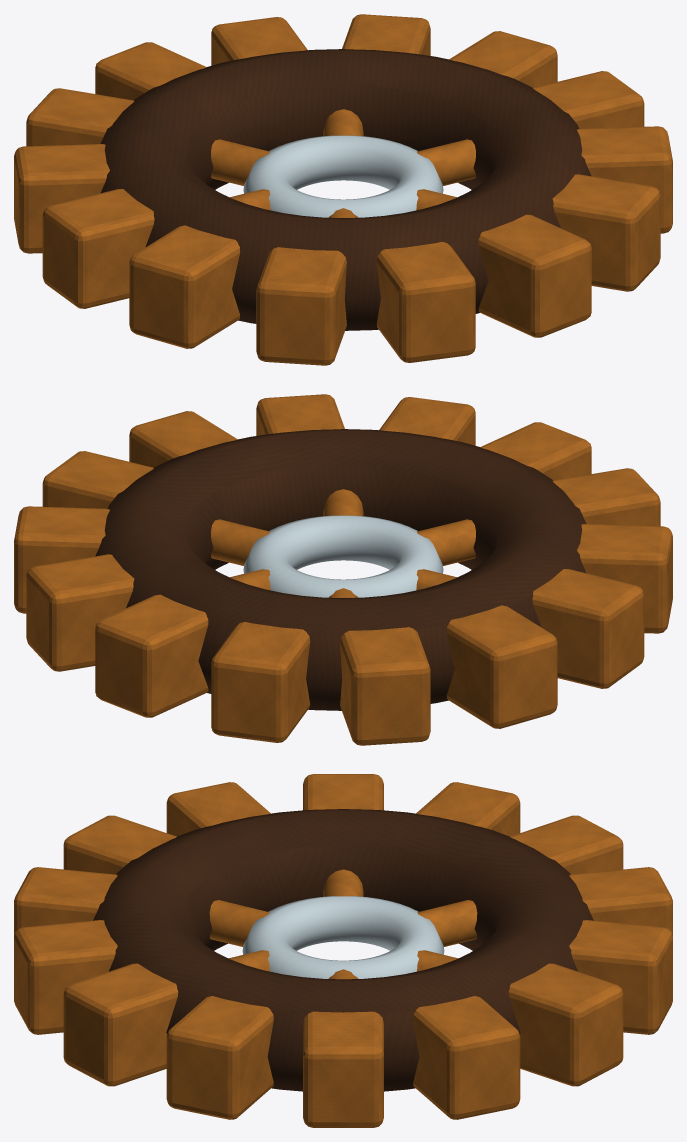
The model's file is relic_03.glb.
The picture shows the model from 3 angles, top to bottom: view 1: azimuth 30°, elevation 25°; view 2: azimuth 150°, elevation 25°; view 3: azimuth 270°, elevation 25°; orthographic projection.
Parts seen in each view (by area): view 1: Brushed_gold, Patinated_bronze, Antique_silver; view 2: Brushed_gold, Patinated_bronze, Antique_silver; view 3: Brushed_gold, Patinated_bronze, Antique_silver.
Boxes of the visible parts, x1,y1,x2,y2 form: Brushed_gold: [14, 14, 672, 365]; Patinated_bronze: [100, 49, 591, 330]; Antique_silver: [243, 135, 443, 217]; Brushed_gold: [14, 394, 672, 745]; Patinated_bronze: [95, 429, 586, 710]; Antique_silver: [243, 515, 443, 597]; Brushed_gold: [14, 774, 672, 1127]; Patinated_bronze: [93, 809, 593, 1091]; Antique_silver: [242, 896, 444, 978].
Bounding box in the file's own units: 0.82 × 0.15 × 0.8164.
3 materials, 2 textured.
